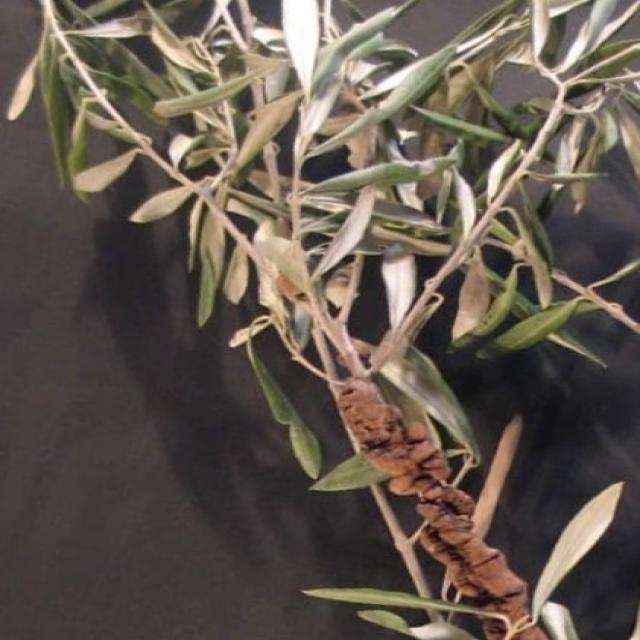Tuberculosis: (341, 379, 546, 639)
